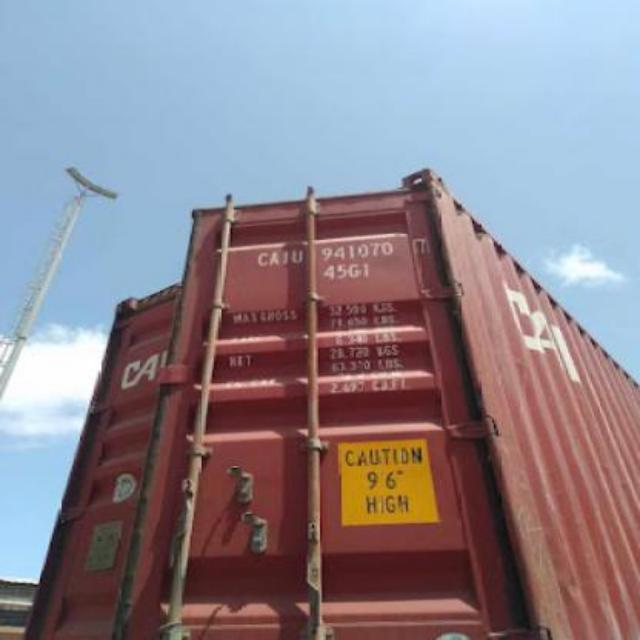0: (358, 243, 370, 259), (382, 242, 394, 254)
1: (344, 245, 356, 258)
4: (334, 244, 348, 260)
7: (412, 237, 428, 253), (368, 240, 382, 256)
9: (320, 247, 332, 259)
A: (270, 249, 282, 265)
C: (254, 250, 270, 266)
I: (282, 249, 290, 267)
U: (290, 248, 304, 262)
